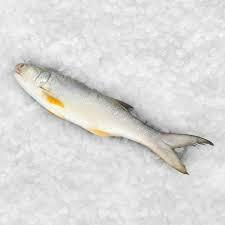Mullet: (13, 60, 216, 176)
